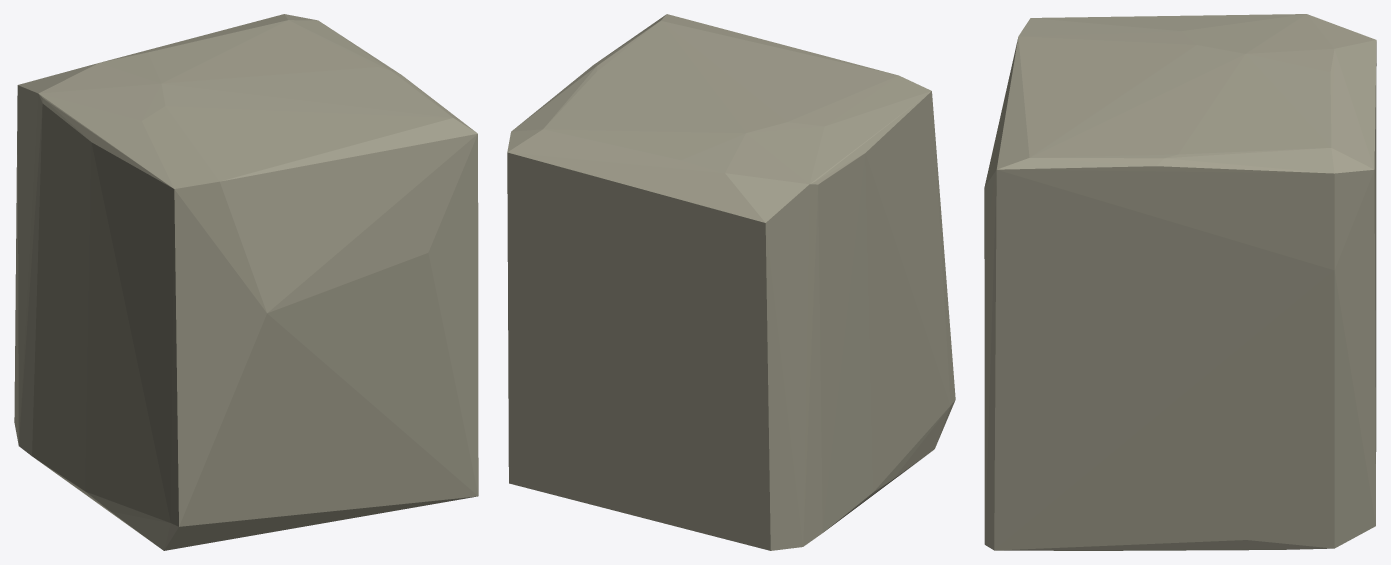
The model's file is pallet_assembly_d01.glb.
3 renders of one model, left to right at view 1: azimuth 30°, elevation 25°; view 2: azimuth 150°, elevation 25°; view 3: azimuth 270°, elevation 25°, orthographic. The views are drawn at different scales.
Visible parts, largest first — view 1: geometry_0; view 2: geometry_0; view 3: geometry_0.
Boxes of the visible parts, x1,y1,x2,y2 form: geometry_0: [14, 14, 478, 550]; geometry_0: [507, 14, 955, 550]; geometry_0: [984, 14, 1376, 550].
Bounding box in the file's own units: 0.4027 × 0.4782 × 0.4229.
